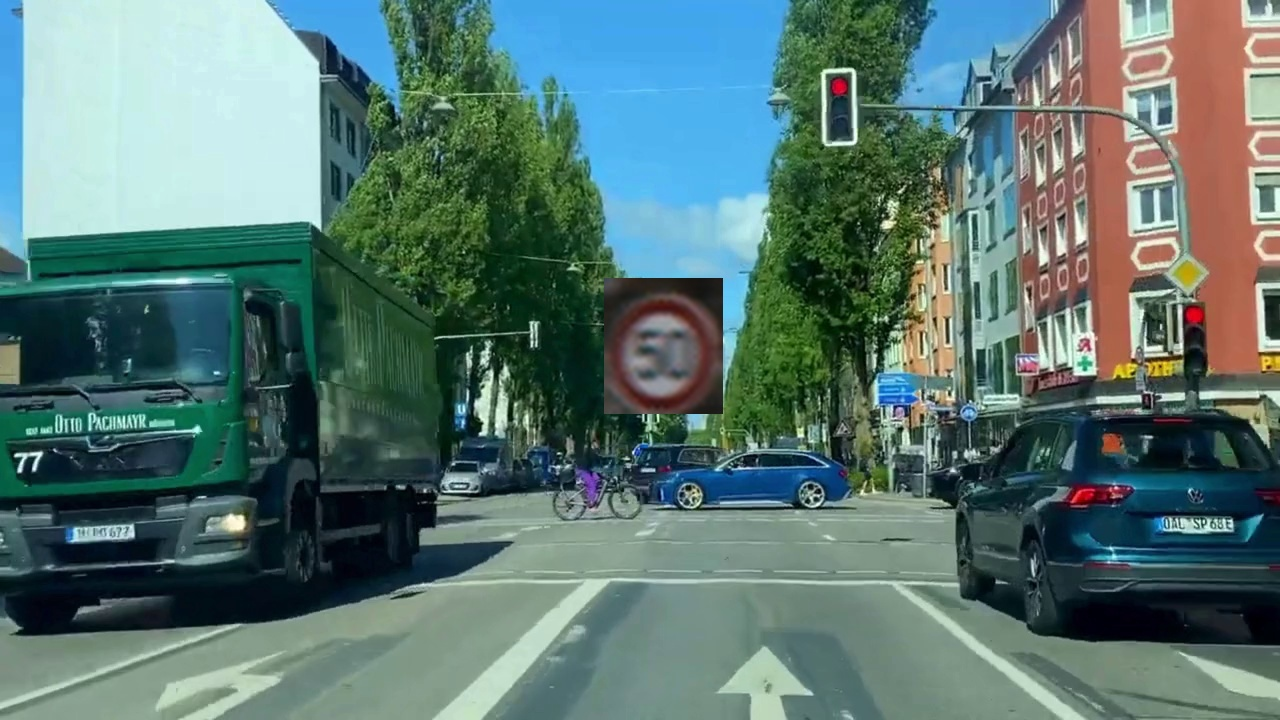Speed 50: (604, 278, 723, 414)
